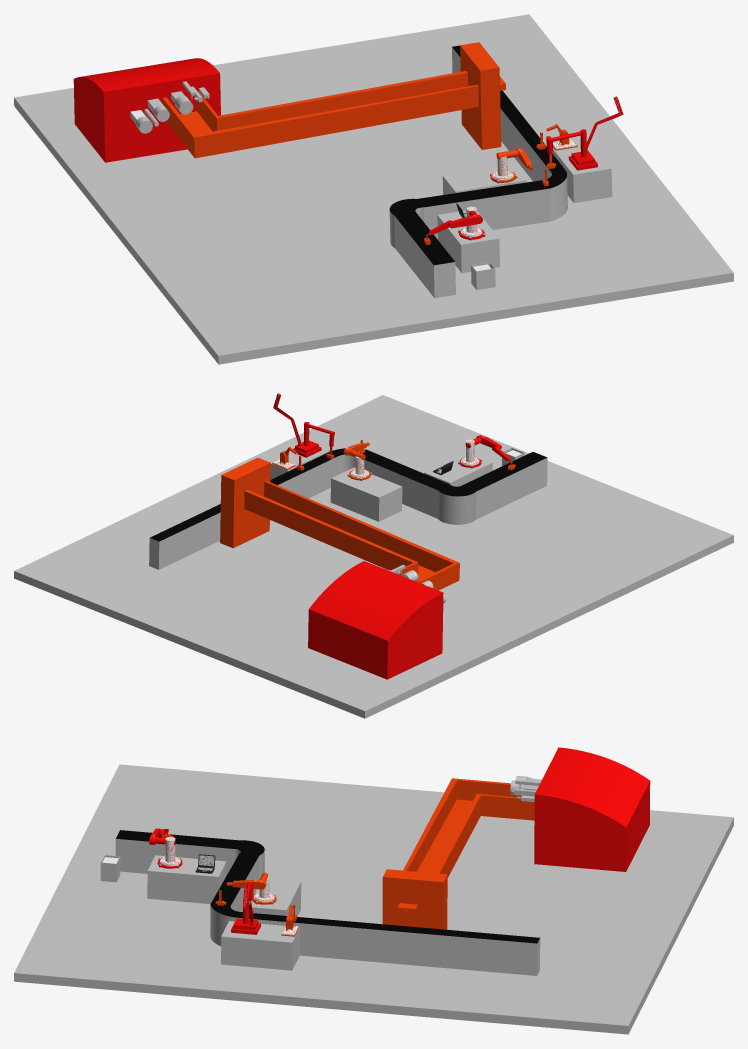
3 renders of one model, top to bottom at view 1: azimuth 30°, elevation 25°; view 2: azimuth 150°, elevation 25°; view 3: azimuth 270°, elevation 25°, orthographic. The views are drawn at different scales.
Parts seen in each view (by area): view 1: SketchUp (×10); view 2: SketchUp (×10); view 3: SketchUp (×10).
Boxes of the visible parts, x1,y1,x2,y2 form: SketchUp (×10): (14,14,733,364); SketchUp (×10): (14,395,733,718); SketchUp (×10): (14,747,733,1034).
Size of the model in its own units: 6024 by 6744 by 1078.
